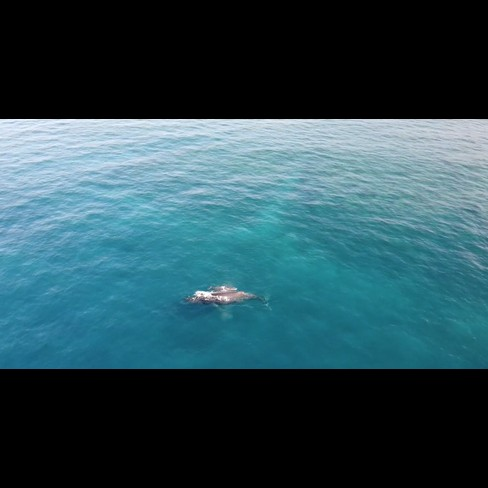hump: (179, 279, 281, 322)
